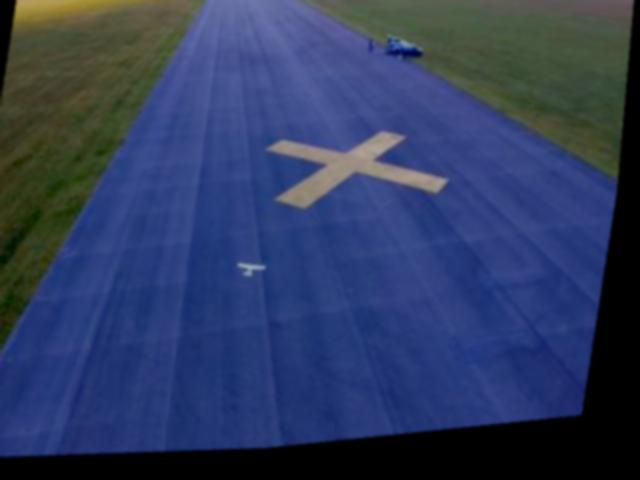uav: (241, 264, 273, 288)
